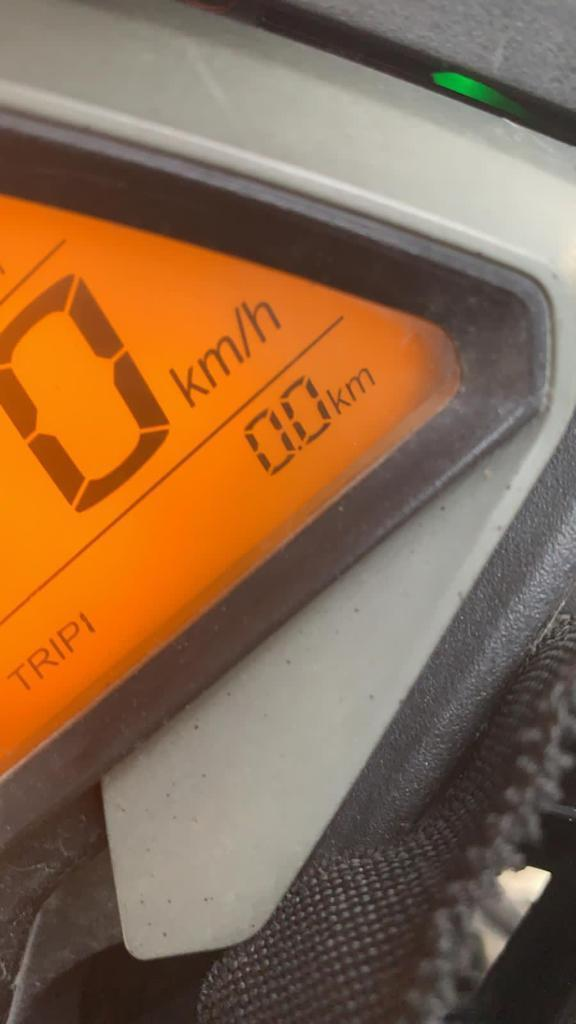,: (292, 442, 306, 455)
0: (0, 271, 170, 510), (278, 373, 332, 442), (241, 407, 293, 475)
1: (79, 610, 94, 635)
X: (197, 334, 241, 389), (240, 298, 281, 342), (169, 364, 207, 406), (231, 305, 251, 358), (344, 367, 373, 401), (27, 647, 57, 679), (56, 619, 79, 652), (324, 385, 348, 413), (6, 662, 29, 690), (49, 637, 65, 661)
odometer: (0, 176, 501, 795)
